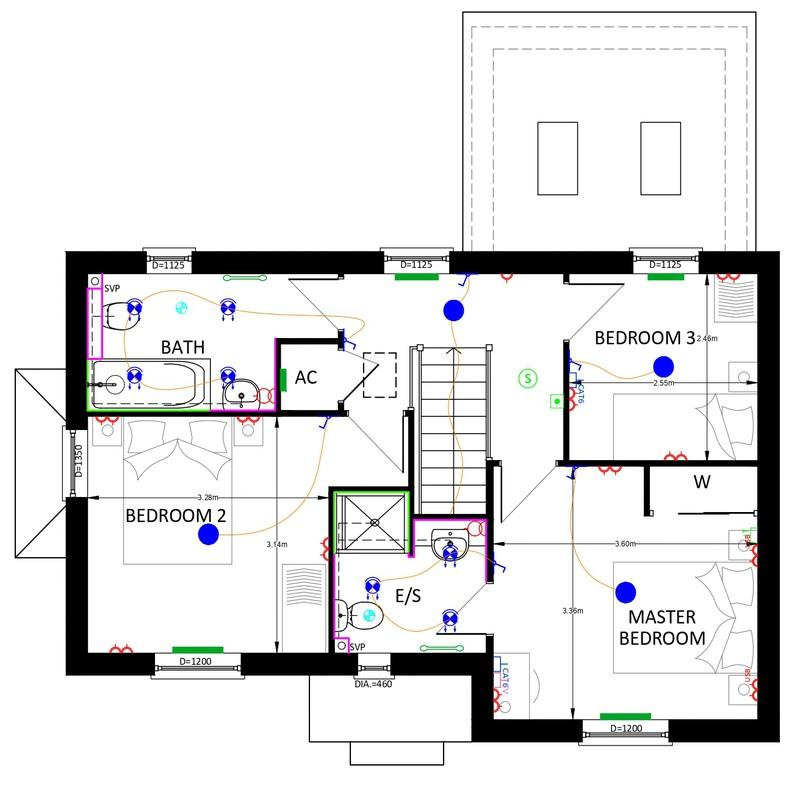Cat 6 Data Socket: (570, 372, 584, 404), (494, 656, 508, 687)
Ceiling Mounted Continuous Extract FanWith Boost Mode Activated By Light Switch: (175, 302, 187, 313), (364, 610, 375, 621)
Co-Ax TV Socket: (493, 672, 508, 693)
Double Socket: (745, 535, 757, 567), (716, 273, 741, 283), (319, 537, 329, 561), (493, 689, 503, 713), (109, 643, 132, 653), (569, 389, 579, 412), (237, 416, 260, 426), (598, 467, 622, 476), (664, 451, 687, 460)
Full Height Tiling: (87, 361, 207, 411), (333, 491, 410, 555)
Light Switch: (494, 560, 507, 573), (458, 274, 471, 287), (567, 467, 579, 480), (319, 417, 331, 430), (570, 359, 581, 371), (344, 338, 356, 349)
Low Energy Downlighter: (125, 366, 143, 389), (441, 609, 459, 632), (442, 544, 459, 568), (126, 298, 143, 321), (365, 576, 381, 600), (220, 298, 236, 321), (220, 366, 236, 389)
Low Energy Pendant Light: (614, 581, 636, 604), (443, 300, 465, 322), (653, 356, 674, 377), (198, 523, 218, 545)
Mains Wired Smoke Detector: (519, 369, 538, 388)
Programmable Room Thermostat: (549, 393, 563, 410)
Radiator: (173, 647, 224, 654), (600, 713, 651, 720), (395, 273, 439, 281), (648, 273, 684, 280), (280, 368, 287, 392)
Shaver Socket: (464, 521, 487, 537), (254, 388, 275, 404)
Single Socket: (500, 274, 514, 283)
Telephone Socket: (744, 528, 758, 543)
USB Double Socket: (744, 669, 758, 703)
